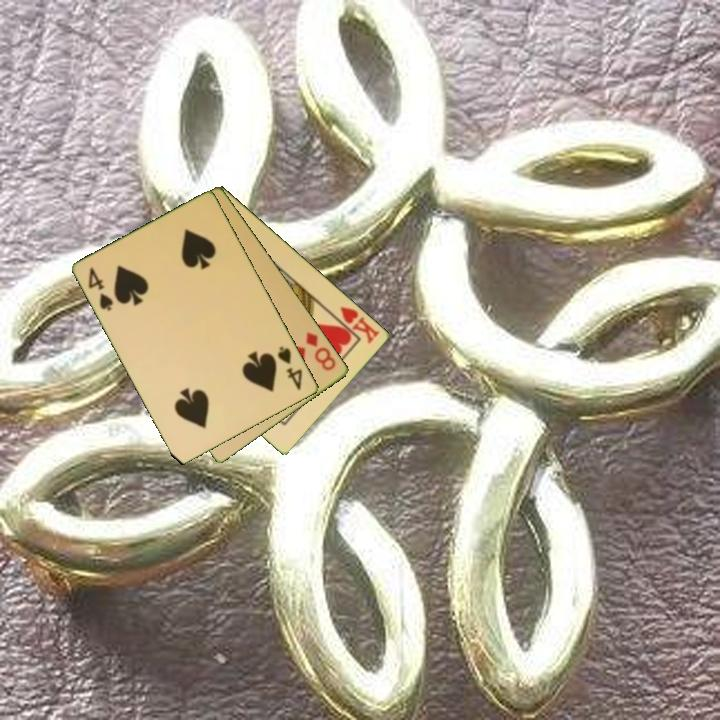4s: (274, 343, 306, 394), (85, 264, 117, 314)
8d: (303, 328, 339, 374)
Kh: (329, 303, 383, 346)
